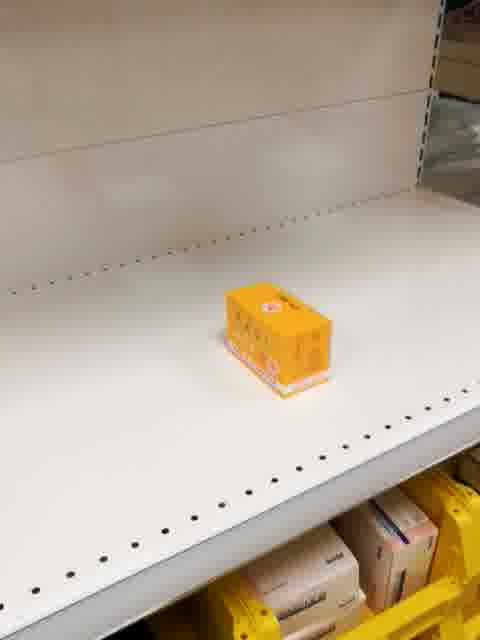jasminetea: (221, 278, 333, 399)
